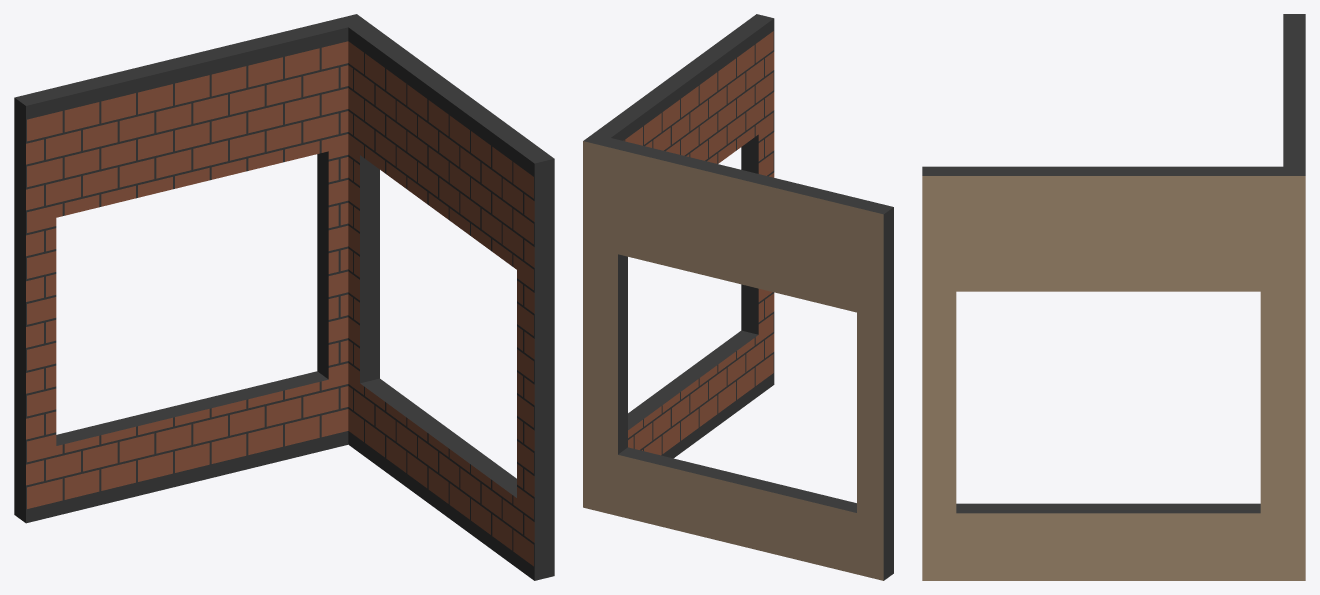
The model's file is Wall2_C10_15.fbx.
3 renders of one model, left to right at view 1: azimuth 30°, elevation 25°; view 2: azimuth 150°, elevation 25°; view 3: azimuth 270°, elevation 25°, orthographic. The views are drawn at different scales.
Parts seen in each view (by area): view 1: Wall2_C10_15; view 2: Wall2_C10_15; view 3: Wall2_C10_15.
Part boxes in pixels (x1=…): Wall2_C10_15: x1=14, y1=14, x2=554, y2=580; Wall2_C10_15: x1=583, y1=14, x2=893, y2=580; Wall2_C10_15: x1=922, y1=14, x2=1305, y2=580.
Bounding box in the file's own units: 258 × 300 × 258.
